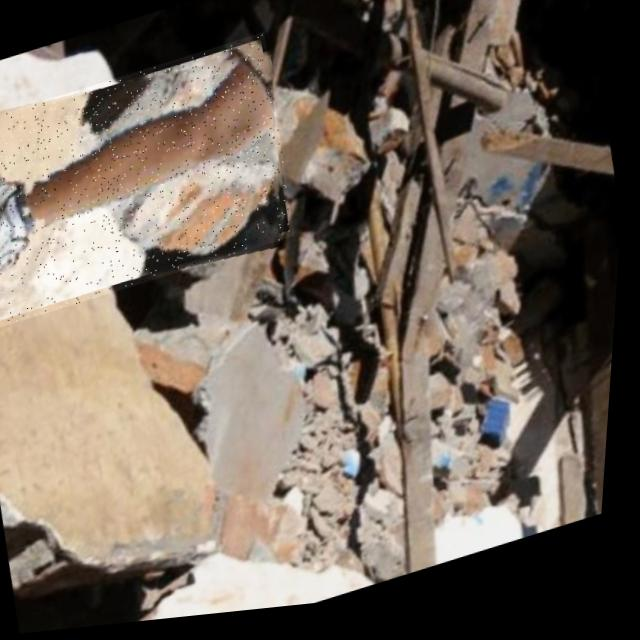Person in Rubble: (0, 34, 308, 334)
